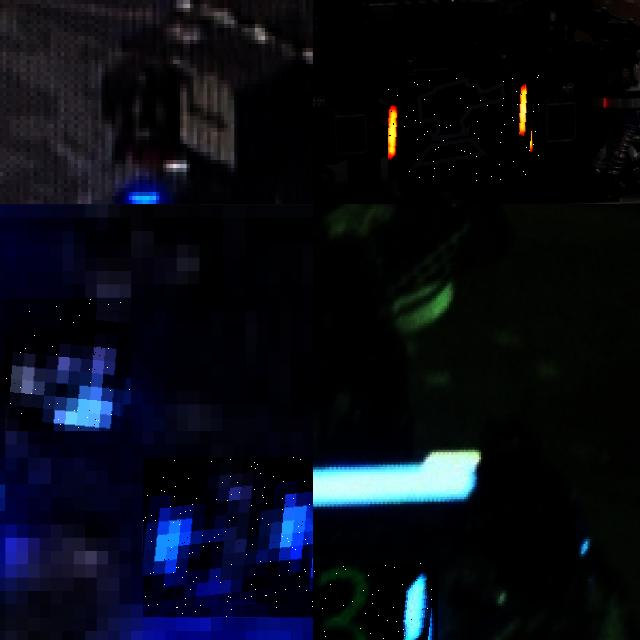B3: (142, 457, 313, 617), (5, 298, 131, 431), (313, 563, 438, 640)
Rs: (388, 75, 539, 181)
